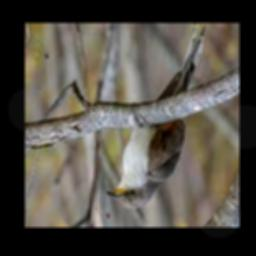Cuckoo: (105, 25, 206, 208)
